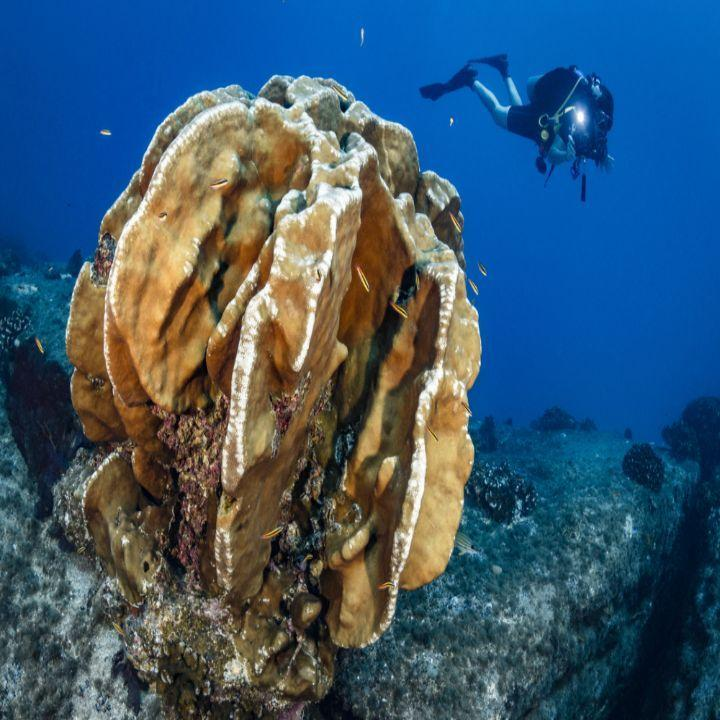Healthy Coral: (61, 57, 492, 650)
